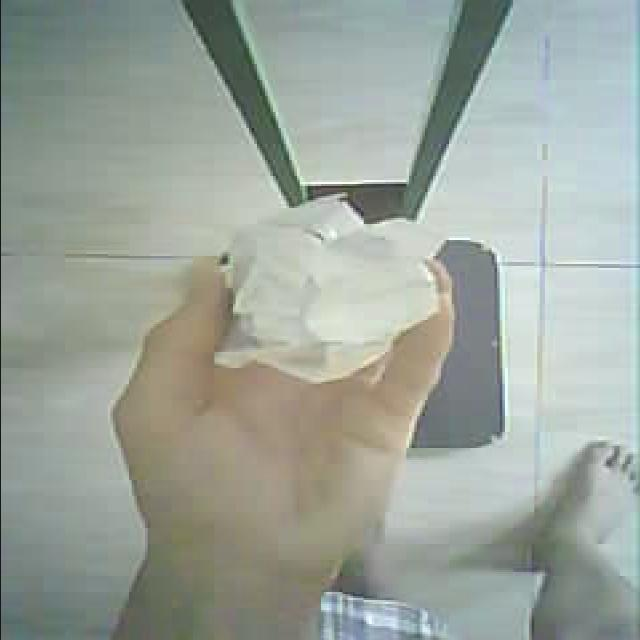Paper: (206, 196, 451, 397)
